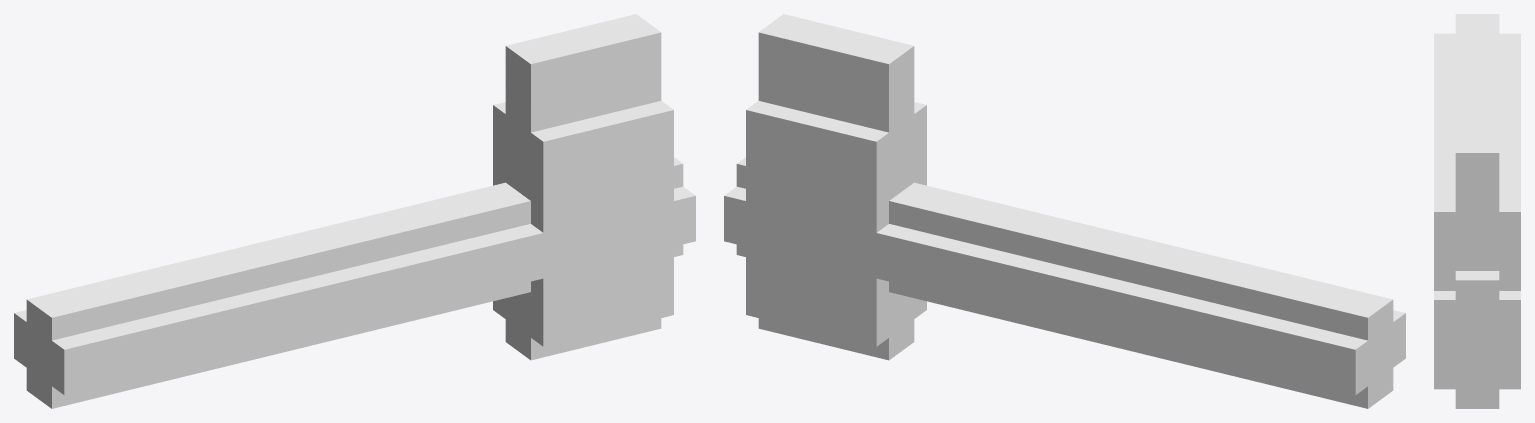
Rendered from Axe.fbx.
3 views of the same model, side by side, from view 1: azimuth 30°, elevation 25°; view 2: azimuth 150°, elevation 25°; view 3: azimuth 270°, elevation 25° (orthographic). The views are drawn at different scales.
Parts seen in each view (by area): view 1: Untitled.001; view 2: Untitled.001; view 3: Untitled.001.
Part boxes in pixels (x1=…): Untitled.001: x1=14, y1=14, x2=695, y2=408; Untitled.001: x1=724, y1=14, x2=1405, y2=408; Untitled.001: x1=1434, y1=14, x2=1520, y2=408.
Size of the model in its own units: 102 by 45.5 by 14.
Materials: 1 (1 with a texture image).
